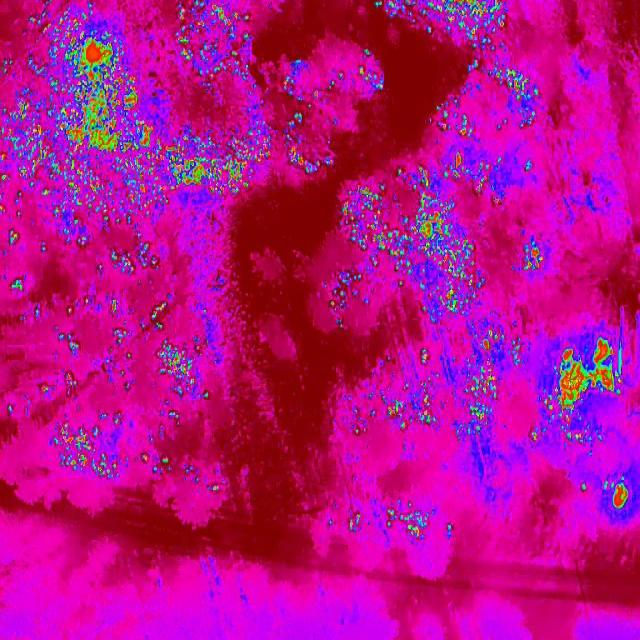fire: (0, 0, 255, 182), (338, 171, 491, 315), (541, 322, 631, 452), (255, 57, 351, 175), (435, 100, 533, 196), (39, 183, 171, 245), (456, 316, 504, 442), (376, 0, 512, 42), (54, 412, 130, 486), (156, 338, 217, 413), (490, 60, 544, 139), (351, 503, 436, 547), (381, 376, 438, 434), (92, 246, 158, 280), (601, 466, 635, 516), (518, 233, 548, 274), (503, 328, 529, 368), (148, 296, 172, 332), (8, 274, 28, 296), (7, 228, 20, 246)
